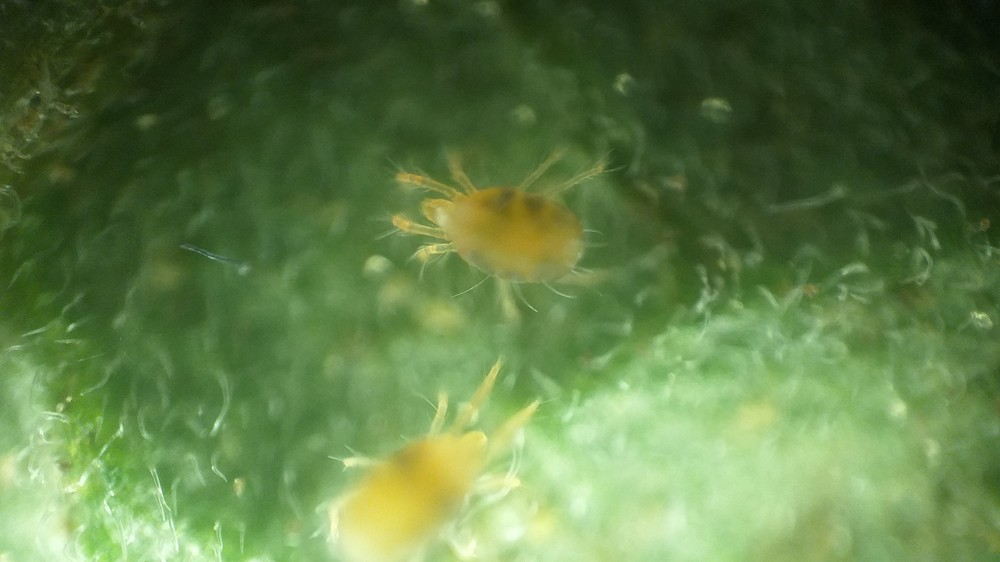Aracnido Rojo: (367, 129, 680, 337), (297, 352, 558, 561)
